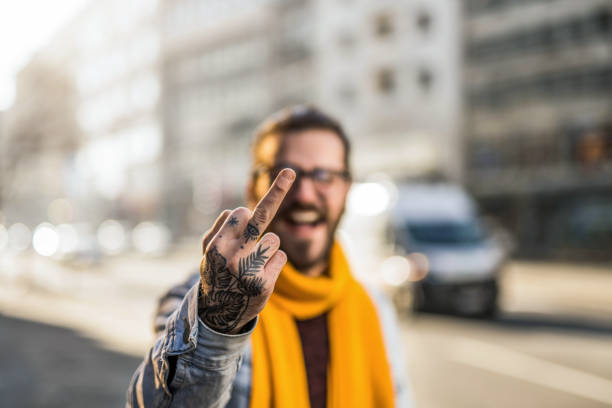insulting_gesture: (198, 163, 299, 328)
